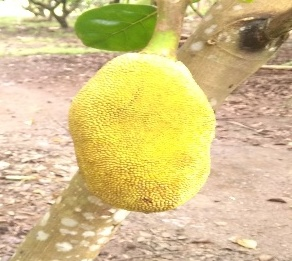Mit: (69, 52, 216, 214)
